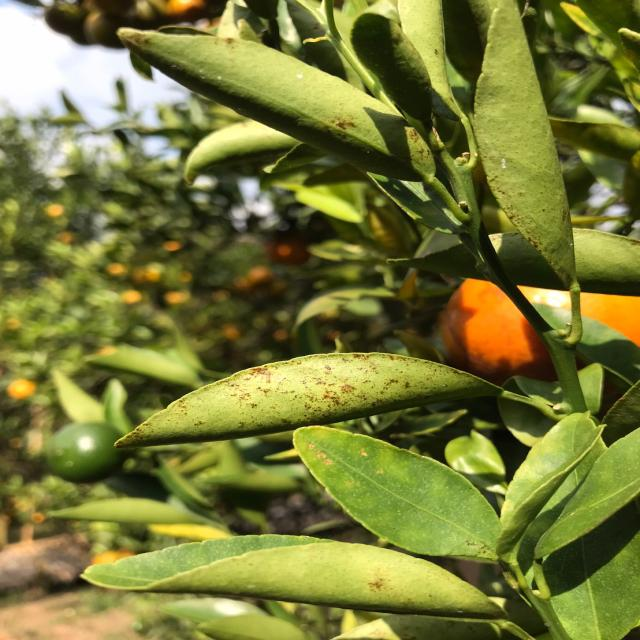melanose: (120, 18, 435, 180), (115, 344, 499, 454)
